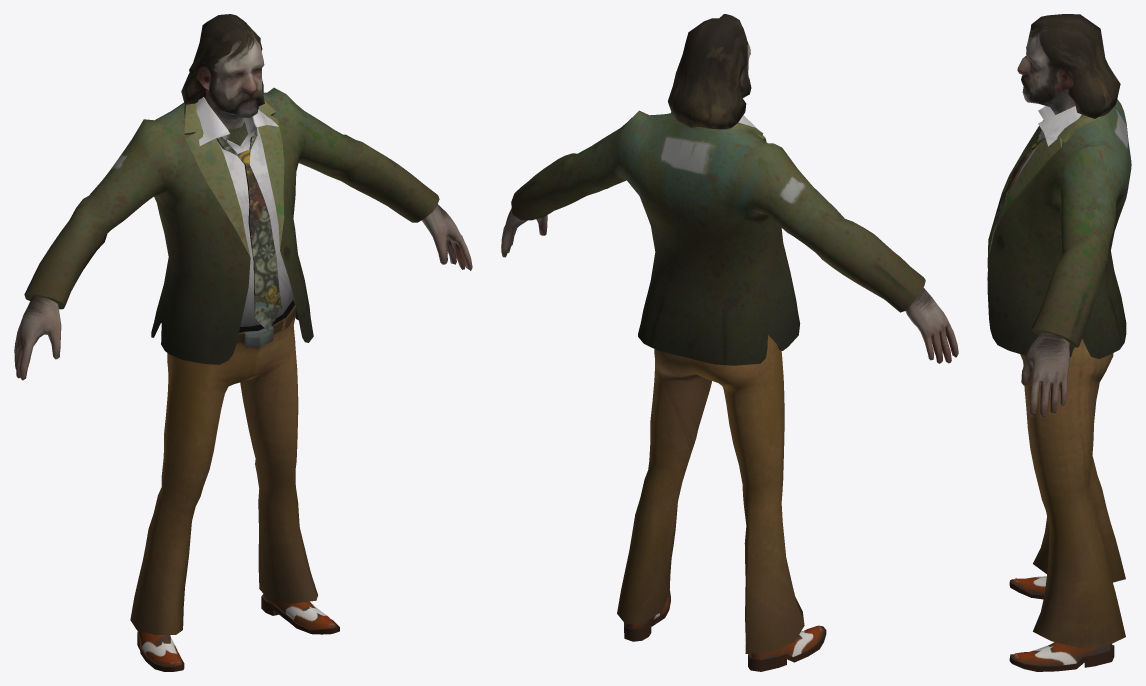
The model's file is Tequila.obj.
3 renders of one model, left to right at view 1: azimuth 30°, elevation 25°; view 2: azimuth 150°, elevation 25°; view 3: azimuth 270°, elevation 25°, orthographic.
Parts seen in each view (by area): view 1: tequila_jacket, tequila_pants, tequila_body, tequila_shirt, tequila_tie, tequila_shoes; view 2: tequila_jacket, tequila_pants, tequila_body, tequila_shoes; view 3: tequila_jacket, tequila_pants, tequila_body, tequila_shoes, tequila_shirt, tequila_tie.
Boxes of the visible parts, x1=… form: tequila_jacket: x1=24, y1=87, x2=439, y2=364; tequila_pants: x1=130, y1=297, x2=317, y2=634; tequila_body: x1=14, y1=14, x2=472, y2=380; tequila_shirt: x1=196, y1=97, x2=293, y2=326; tequila_tie: x1=216, y1=128, x2=282, y2=331; tequila_shoes: x1=137, y1=594, x2=339, y2=671; tequila_jacket: x1=511, y1=110, x2=925, y2=365; tequila_pants: x1=617, y1=335, x2=804, y2=653; tequila_body: x1=501, y1=14, x2=958, y2=363; tequila_shoes: x1=624, y1=589, x2=826, y2=671; tequila_jacket: x1=987, y1=99, x2=1131, y2=358; tequila_pants: x1=1020, y1=338, x2=1125, y2=647; tequila_body: x1=1017, y1=14, x2=1120, y2=417; tequila_shoes: x1=1009, y1=576, x2=1114, y2=671; tequila_shirt: x1=1014, y1=105, x2=1081, y2=182; tequila_tie: x1=987, y1=130, x2=1045, y2=280.
Size of the model in its own units: 1.45 by 1.9 by 0.4048.
6 materials, 6 textured.
